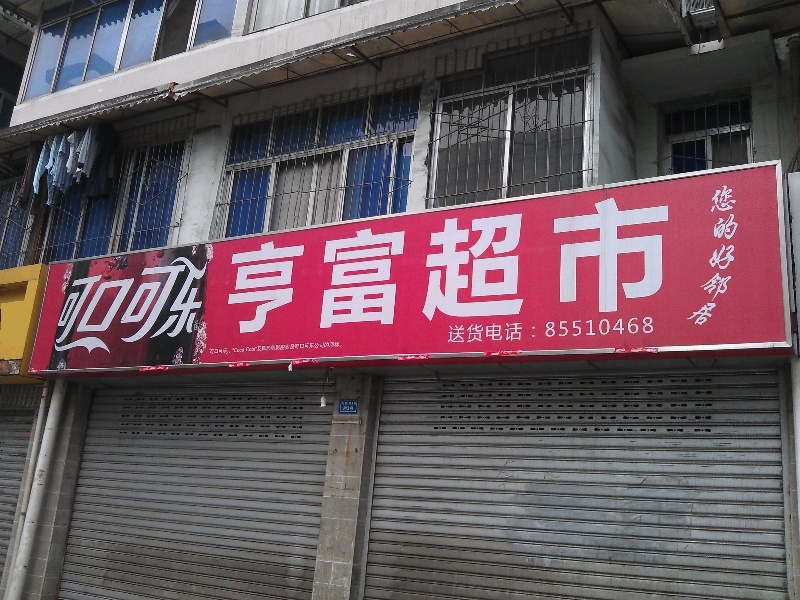text: (241, 189, 256, 337), (257, 189, 272, 337), (273, 189, 288, 337), (289, 189, 304, 337), (305, 189, 320, 337), (321, 189, 336, 337), (337, 189, 352, 337), (353, 189, 368, 337), (369, 189, 384, 337), (385, 189, 400, 337), (401, 189, 416, 337), (417, 189, 432, 337), (433, 189, 448, 337), (449, 189, 464, 337), (465, 189, 480, 337), (481, 189, 496, 337), (497, 189, 512, 337), (513, 189, 528, 337), (529, 189, 544, 337), (545, 189, 560, 337), (561, 189, 576, 337), (577, 189, 592, 337), (593, 189, 608, 337), (609, 189, 624, 337), (625, 189, 640, 337), (641, 189, 656, 337), (721, 183, 736, 331), (657, 189, 671, 337), (737, 183, 751, 331), (81, 250, 96, 357), (97, 250, 112, 357), (113, 250, 128, 357), (129, 250, 144, 357), (145, 250, 160, 357), (161, 250, 176, 357), (177, 250, 192, 357), (193, 250, 208, 357), (231, 189, 240, 337), (72, 250, 80, 357), (715, 183, 720, 331), (449, 314, 464, 345), (465, 314, 480, 345), (481, 314, 496, 345), (497, 314, 512, 345), (513, 314, 528, 345), (529, 314, 544, 345), (545, 314, 560, 345), (561, 314, 576, 345), (577, 314, 592, 345), (593, 314, 608, 345), (609, 314, 624, 345), (625, 314, 640, 345), (641, 314, 656, 345), (209, 340, 224, 355), (225, 340, 240, 355), (241, 340, 256, 355), (257, 340, 272, 355), (273, 340, 288, 355), (289, 340, 304, 355), (305, 340, 320, 355), (321, 340, 336, 355), (209, 250, 211, 357), (337, 340, 342, 355), (343, 407, 352, 411), (447, 314, 448, 345), (342, 402, 352, 405), (353, 402, 357, 405), (353, 407, 354, 411)
